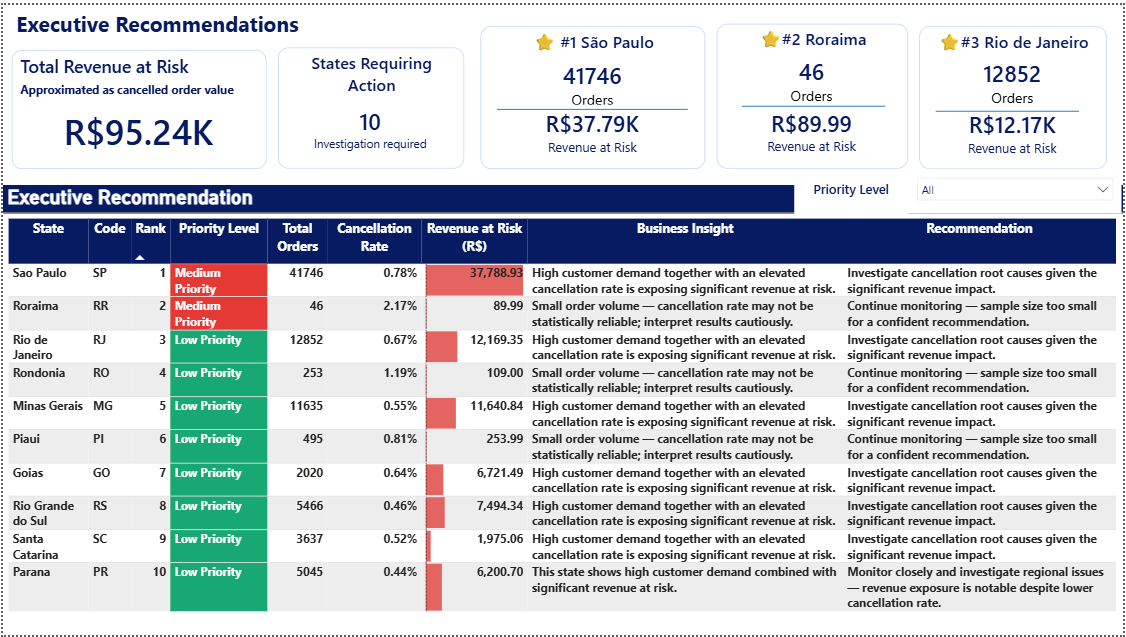

What the dashboard file says about the page in this screenshot:
{"tool":"powerbi","page":{"name":"Executive Recommendations","canvas":[1280,720],"ordinal":2},"visuals":[{"type":"textbox","box":[10,0,335.7,48.6],"z":0},{"type":"cardVisual","title":"Total Revenue at Risk","fields":{"Data":["public revenue_at_risk_state.Revenue at Risk (R$)"]},"box":[10,51.4,291.4,135.7],"z":1000},{"type":"cardVisual","title":"States Requiring Action","fields":{"Data":["public dim_customer.States Requiring Action"]},"box":[314.3,48.6,212.9,138.6],"z":2000},{"type":"cardVisual","title":"⭐ #1 São Paulo","fields":{"Data":["Sum(public warehouse_priority_state.total_orders)","public revenue_at_risk_state.Revenue at Risk (R$)"]},"box":[545.7,24.3,257.1,162.9],"z":3000},{"type":"cardVisual","title":"⭐#2 Roraima","fields":{"Data":["Sum(public warehouse_priority_state.total_orders)","public revenue_at_risk_state.Revenue at Risk (R$)"]},"box":[815.7,21.4,218.6,165.7],"z":4000},{"type":"cardVisual","title":"⭐#3 Rio de Janeiro","fields":{"Data":["Sum(public warehouse_priority_state.total_orders)","public revenue_at_risk_state.Revenue at Risk (R$)"]},"box":[1047.1,24.3,214.3,162.9],"z":5000},{"type":"tableEx","title":"Executive Recommendation","fields":{"Values":["public executive_recommendation.state_name","public executive_recommendation.state_code","Sum(public executive_recommendation.rank)","public executive_recommendation.priority_label","Sum(public executive_recommendation.total_orders)","public dim_customer.Cancellation Rate Scatter","Sum(public executive_recommendation.revenue_at_risk)","public executive_recommendation.business_insight","public executive_recommendation.recommendation"]},"box":[0,205.7,1280,494.3],"z":6000},{"type":"slicer","fields":{"Values":["public executive_recommendation.priority_label"]},"box":[1034.3,187.1,244.3,51],"z":7000},{"type":"shape","box":[564.3,112.9,218.6,12.9],"z":8000},{"type":"shape","box":[844.3,105.7,164.3,20],"z":9000},{"type":"shape","box":[1065.7,111.4,164.3,20],"z":10000},{"type":"textbox","box":[904.4,195.6,130,43],"z":11000}]}

Visuals, with their boxes in screenshot pixels (x1, y1, x2, y2), scaled from the page's 1280x720 canvas onto the 1126x637 screenshot:
textbox: region(9, 0, 304, 43)
"Total Revenue at Risk" cardVisual: region(9, 45, 265, 166)
"States Requiring Action" cardVisual: region(276, 43, 464, 166)
"⭐ #1 São Paulo" cardVisual: region(480, 21, 706, 166)
"⭐#2 Roraima" cardVisual: region(718, 19, 910, 166)
"⭐#3 Rio de Janeiro" cardVisual: region(921, 21, 1110, 166)
"Executive Recommendation" tableEx: region(0, 182, 1125, 619)
slicer - public executive_recommendation.priority_label: region(910, 166, 1125, 211)
shape: region(496, 100, 689, 111)
shape: region(743, 94, 887, 111)
shape: region(937, 99, 1082, 116)
textbox: region(796, 173, 910, 211)
